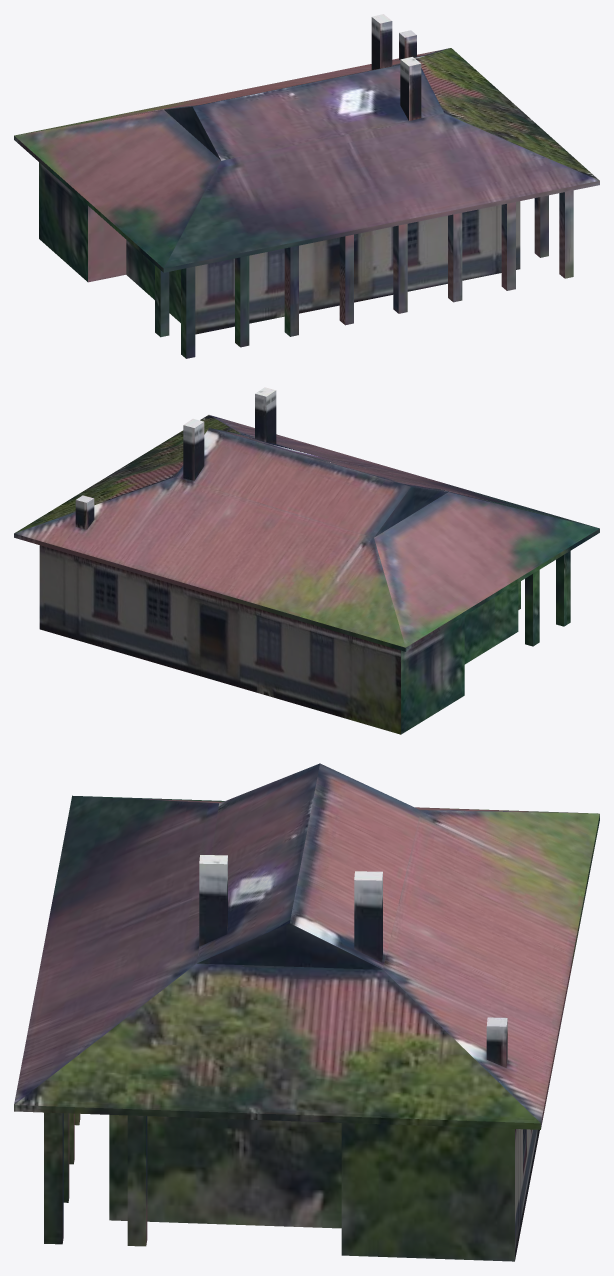
The picture shows the model from 3 angles, top to bottom: view 1: azimuth 30°, elevation 25°; view 2: azimuth 150°, elevation 25°; view 3: azimuth 270°, elevation 25°; orthographic projection. The views are drawn at different scales.
Visible parts, largest first — view 1: B282454034201063A0; view 2: B282454034201063A0; view 3: B282454034201063A0.
Part boxes in pixels (left/top/right/bottom): B282454034201063A0: left=14, top=14, right=599, bottom=358; B282454034201063A0: left=14, top=387, right=599, bottom=734; B282454034201063A0: left=14, top=763, right=599, bottom=1261.
Size of the model in its own units: 22.71 by 9.86 by 17.16.
1 material, 1 textured.
